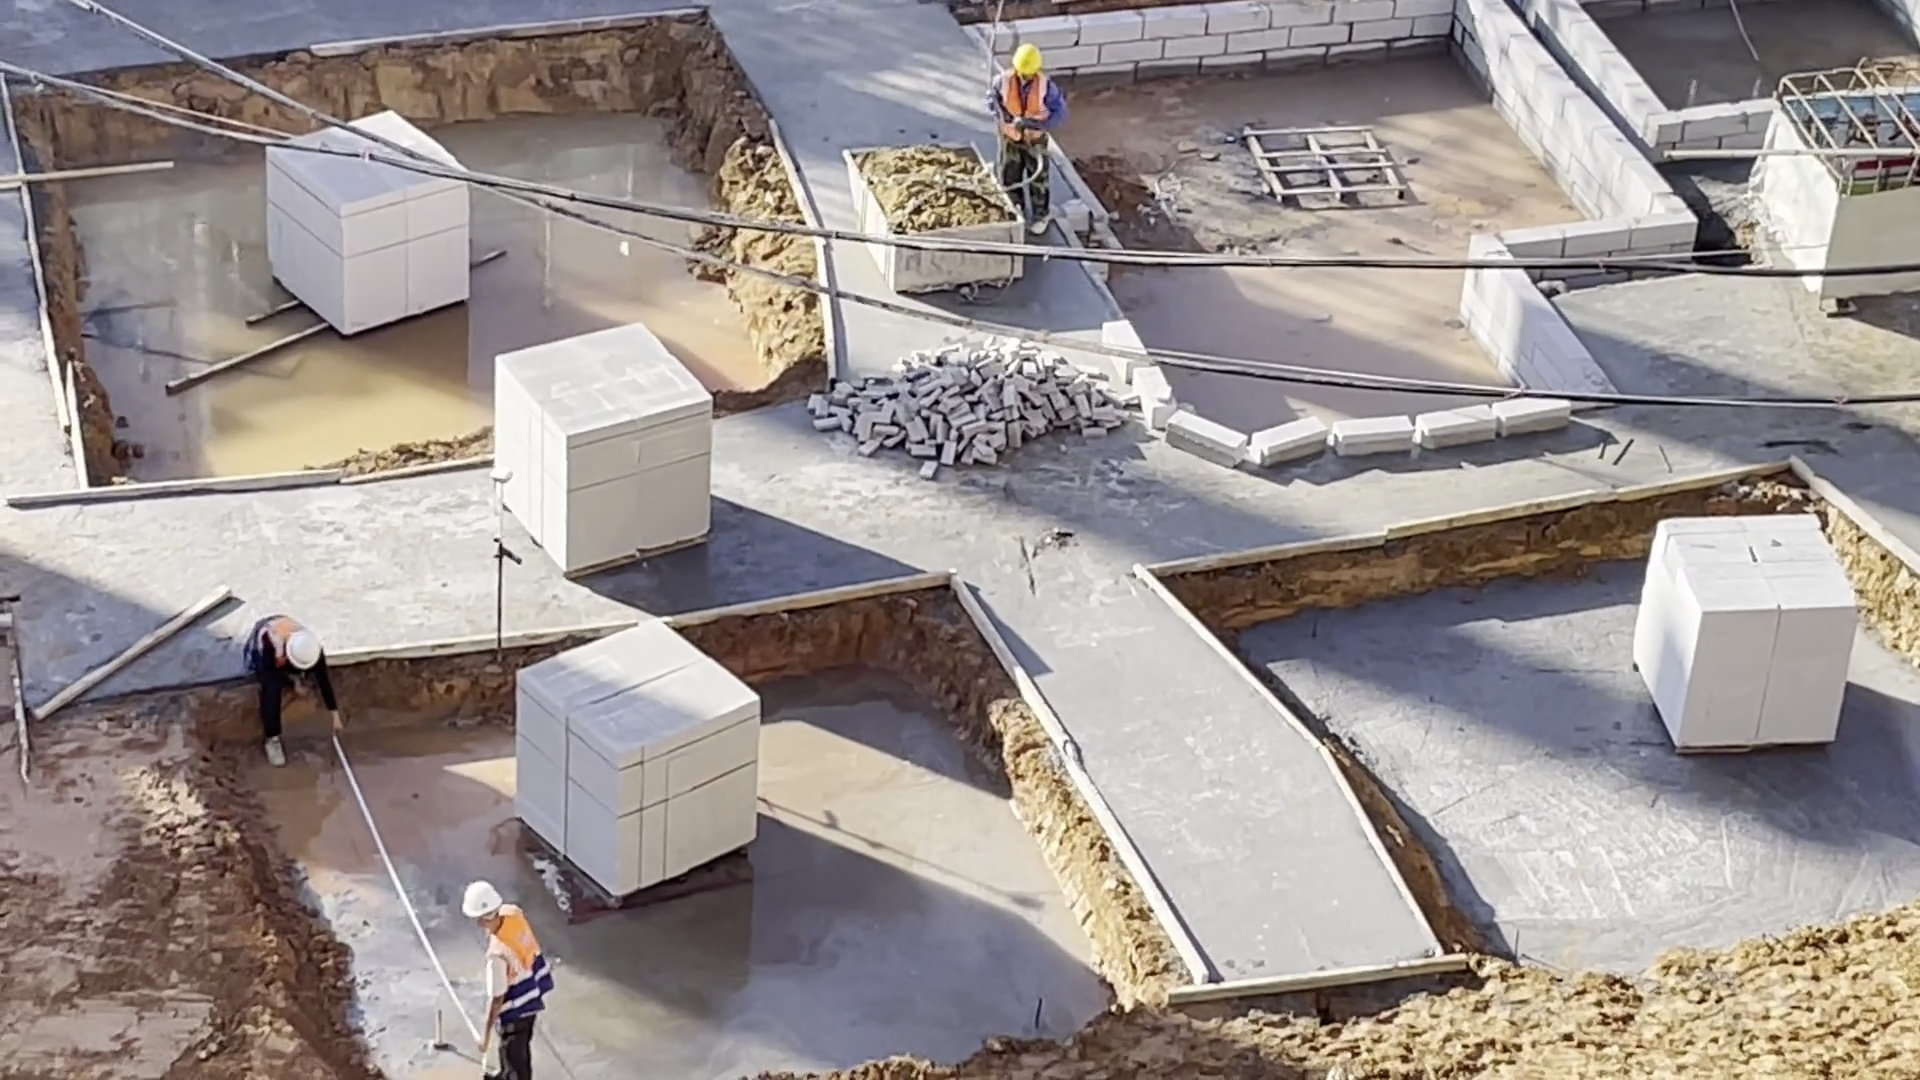brick: (516, 630, 764, 895), (480, 319, 717, 576), (1624, 508, 1858, 752), (252, 174, 479, 337)
helmet: (460, 878, 507, 922), (285, 627, 321, 672), (1010, 44, 1045, 73)
hopper: (841, 142, 997, 243)
person: (240, 608, 352, 771), (463, 875, 552, 1080), (986, 42, 1073, 238)
vest: (488, 908, 554, 1023), (994, 71, 1052, 144)
